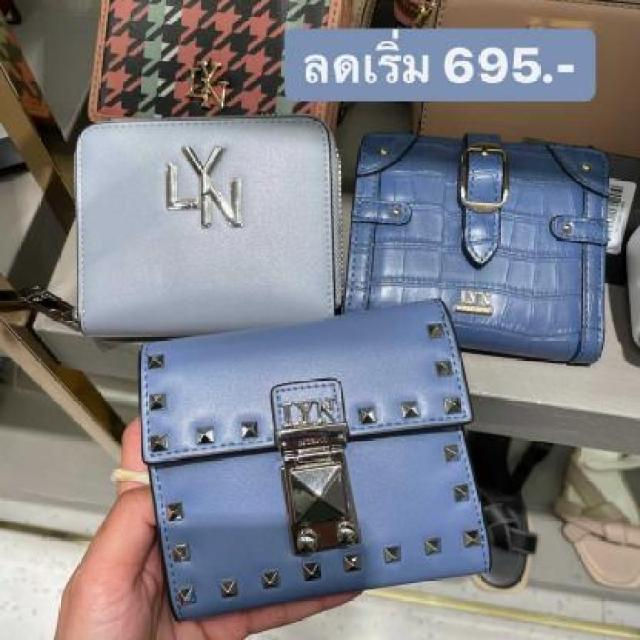Bag: (66, 300, 572, 617), (66, 84, 445, 384), (354, 90, 638, 407)
